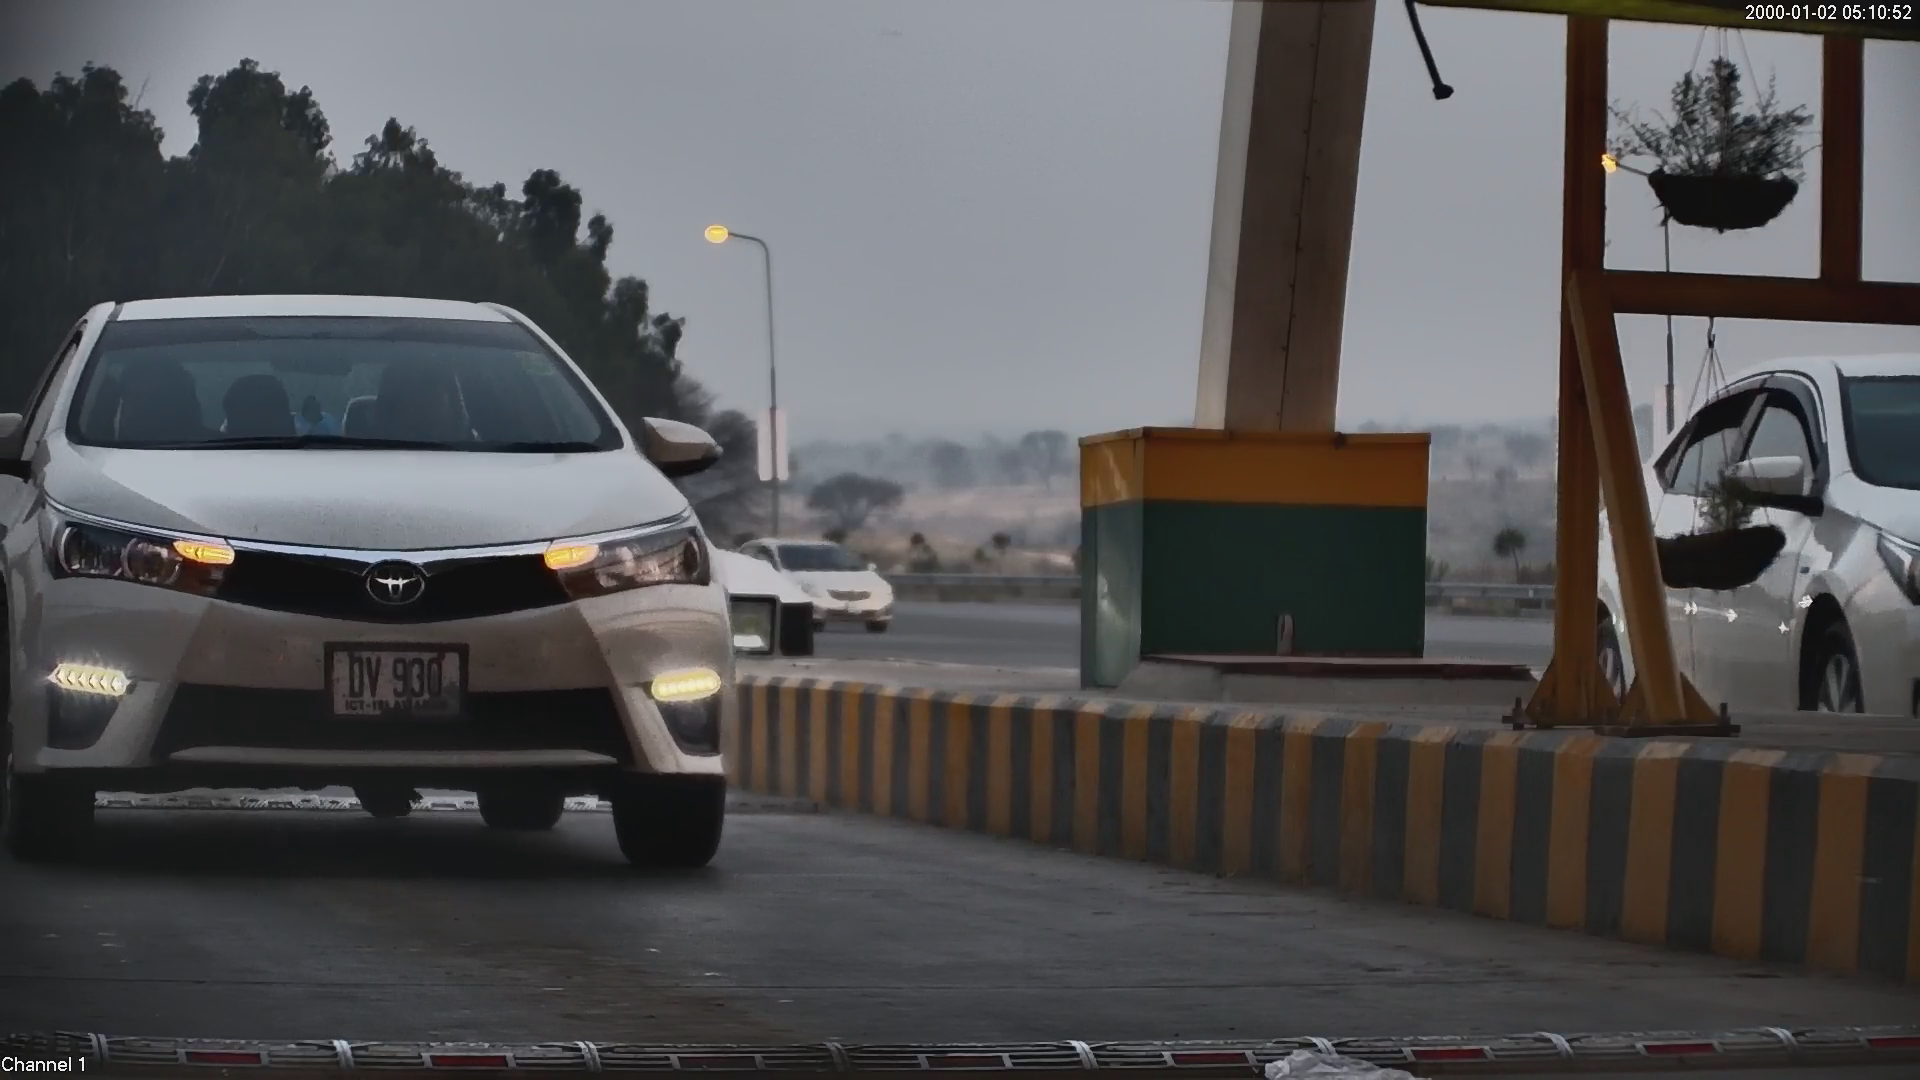Number_Plate: (317, 632, 480, 737)
